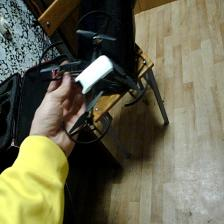drone: (26, 5, 152, 153)
